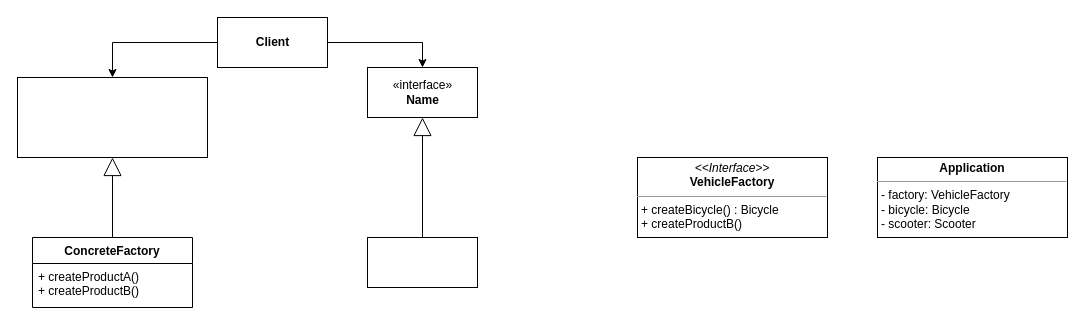
Some shapes in this 1085 by 328 pixel diagram are drawn without their labels. Each missing label, with the centre of its shape:
"<<Interface>> AbstractFactory + createProductA() + createProductB()" goes at [112,117].
"ConcreteProduct" goes at [422,262].
